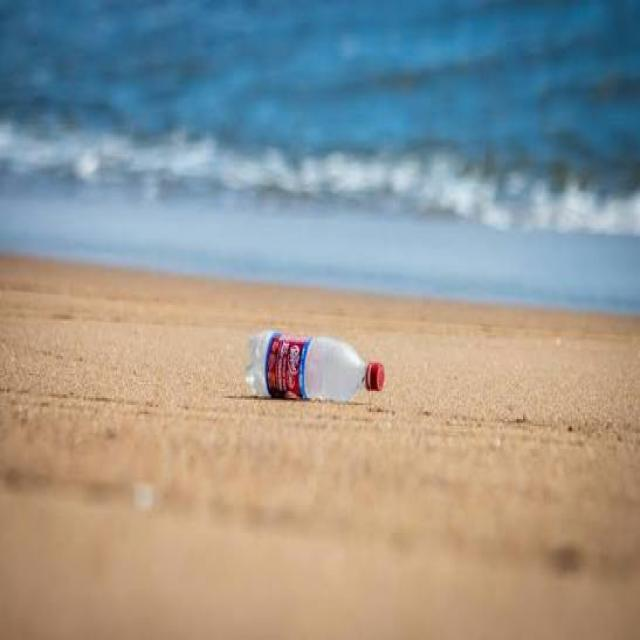plastic: (205, 284, 421, 452)
